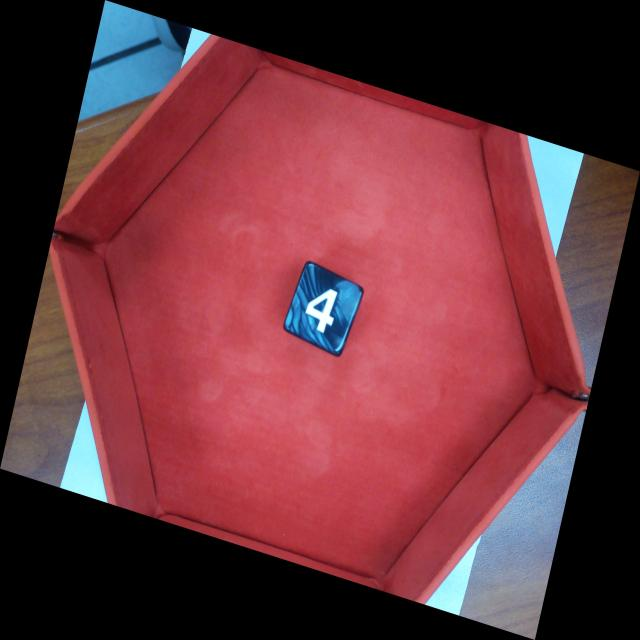dice: (281, 258, 366, 359)
